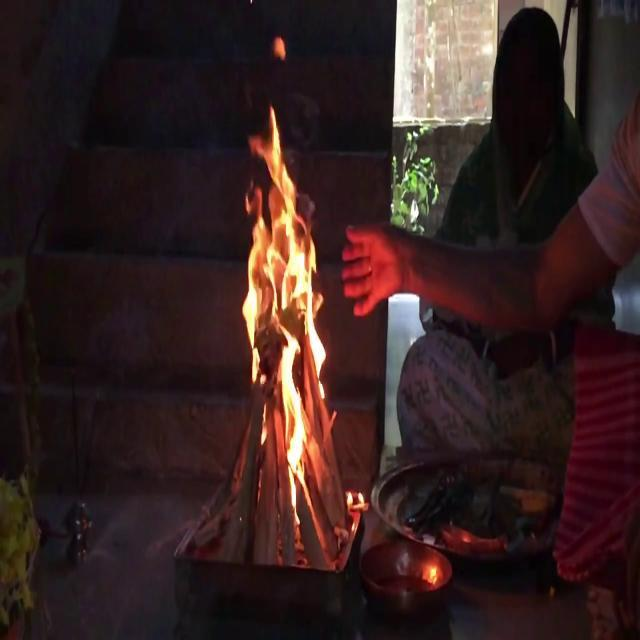Fire: (224, 97, 336, 497)
